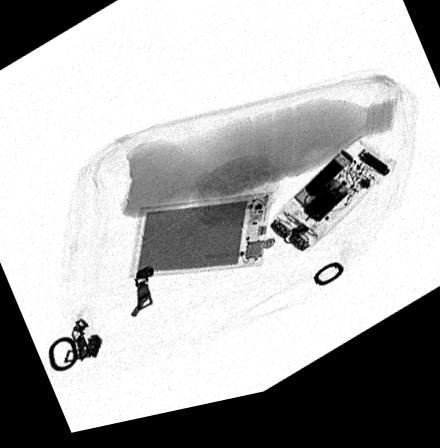Powerbank: (128, 201, 275, 285)
